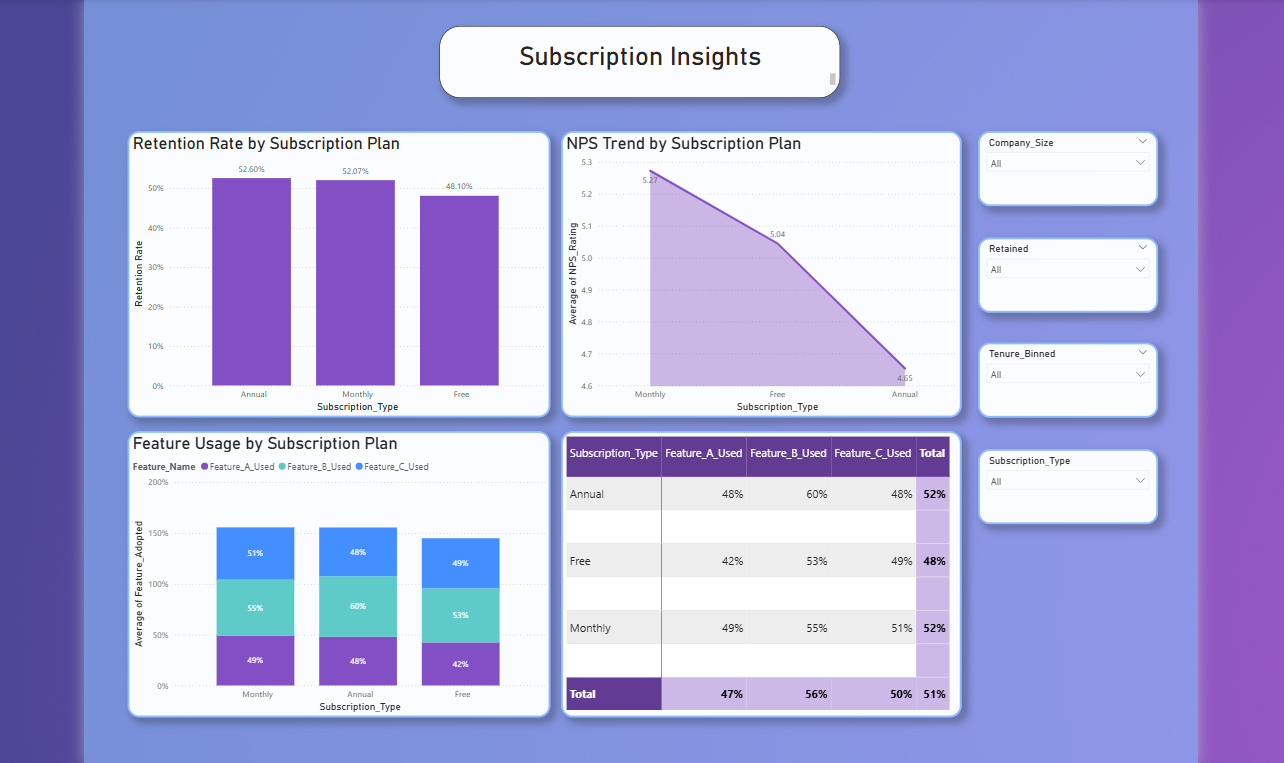

What the dashboard file says about the page in this screenshot:
{"tool":"powerbi","page":{"name":"Page 3","canvas":[1600,1100],"ordinal":2},"visuals":[{"type":"textbox","title":"Subscription Insights","box":[510.5,38.8,575.1,103.4],"z":0},{"type":"clusteredColumnChart","title":"Retention Rate by Subscription Plan","fields":{"Category":["Feature_Usage_Retention_Dataset.Subscription_Type"],"Y":["Feature_Usage_Retention_Dataset.Retention Rate"]},"box":[62,189,607,411.4],"z":1000},{"type":"areaChart","title":"NPS Trend by Subscription Plan","fields":{"Category":["Feature_Usage_Retention_Dataset.Subscription_Type"],"Y":["Avg(Feature_Usage_Retention_Dataset.NPS_Rating)"]},"box":[685,189.6,575.1,411.4],"z":2000},{"type":"columnChart","title":"Feature Usage by Subscription Plan","fields":{"Category":["Feature_Usage_Retention_Dataset.Subscription_Type"],"Y":["Avg(Feature_Usage_Retention_Dataset.Feature_Adopted)"],"Series":["Feature_Usage_Retention_Dataset.Feature_Name"]},"box":[62.5,620.4,607.5,411.4],"z":3000},{"type":"pivotTable","title":"Matrix Table – Feature Usage %","fields":{"Rows":["Feature_Usage_Retention_Dataset.Subscription_Type"],"Values":["Avg(Feature_Usage_Retention_Dataset.Feature_Adopted)"],"Columns":["Feature_Usage_Retention_Dataset.Feature_Name"]},"box":[685,620.4,575.1,411.4],"z":4000},{"type":"slicer","title":"NPS vs Login Frequency (by Retention)","fields":{"Values":["Feature_Usage_Retention_Dataset.Company_Size"]},"box":[1283.8,189.6,258.5,107.7],"z":5000},{"type":"slicer","title":"NPS vs Login Frequency (by Retention)","fields":{"Values":["Feature_Usage_Retention_Dataset.Retained"]},"box":[1283.8,342.5,258.5,107.7],"z":6000},{"type":"slicer","title":"NPS vs Login Frequency (by Retention)","fields":{"Values":["Feature_Usage_Retention_Dataset.Tenure_Binned"]},"box":[1283.8,493.3,258.5,107.7],"z":7000},{"type":"slicer","title":"NPS vs Login Frequency (by Retention)","fields":{"Values":["Feature_Usage_Retention_Dataset.Subscription_Type"]},"box":[1283.8,646.2,258.5,107.7],"z":8000}]}

Visuals, with their boxes on the page's 1600x1100 design canvas (x1, y1, x2, y2). These are canvas units, not pixel positions in the 1284x763 screenshot, which may show the page scaled, cropped or inside an application window:
"Subscription Insights" textbox: BBox(510, 39, 1086, 142)
"Retention Rate by Subscription Plan" clusteredColumnChart: BBox(62, 189, 669, 600)
"NPS Trend by Subscription Plan" areaChart: BBox(685, 190, 1260, 601)
"Feature Usage by Subscription Plan" columnChart: BBox(62, 620, 670, 1032)
"Matrix Table – Feature Usage %" pivotTable: BBox(685, 620, 1260, 1032)
"NPS vs Login Frequency (by Retention)" slicer: BBox(1284, 190, 1542, 297)
"NPS vs Login Frequency (by Retention)" slicer: BBox(1284, 342, 1542, 450)
"NPS vs Login Frequency (by Retention)" slicer: BBox(1284, 493, 1542, 601)
"NPS vs Login Frequency (by Retention)" slicer: BBox(1284, 646, 1542, 754)
